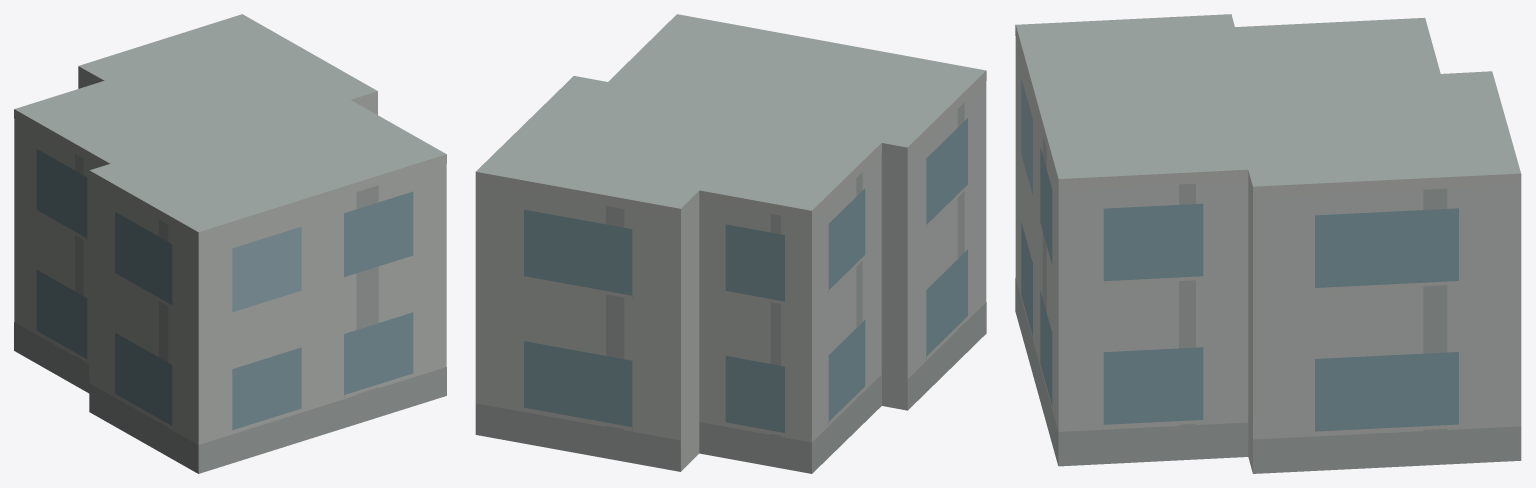
The model's file is residential-6f26d1ae-7be0-45a9-a675-700cdf472253.glb.
3 views of the same model, side by side, from view 1: azimuth 30°, elevation 25°; view 2: azimuth 150°, elevation 25°; view 3: azimuth 270°, elevation 25° (orthographic). The views are drawn at different scales.
Parts seen in each view (by area): view 1: residential-6f26d1ae-7be0-45a9-a675-700cdf472253.tmp; view 2: residential-6f26d1ae-7be0-45a9-a675-700cdf472253.tmp; view 3: residential-6f26d1ae-7be0-45a9-a675-700cdf472253.tmp.
Boxes of the visible parts, x1,y1,x2,y2 form: residential-6f26d1ae-7be0-45a9-a675-700cdf472253.tmp: (14,14,446,473); residential-6f26d1ae-7be0-45a9-a675-700cdf472253.tmp: (475,14,986,473); residential-6f26d1ae-7be0-45a9-a675-700cdf472253.tmp: (1015,14,1521,473).
Bounding box in the file's own units: 7.87 × 6.1 × 9.74.
